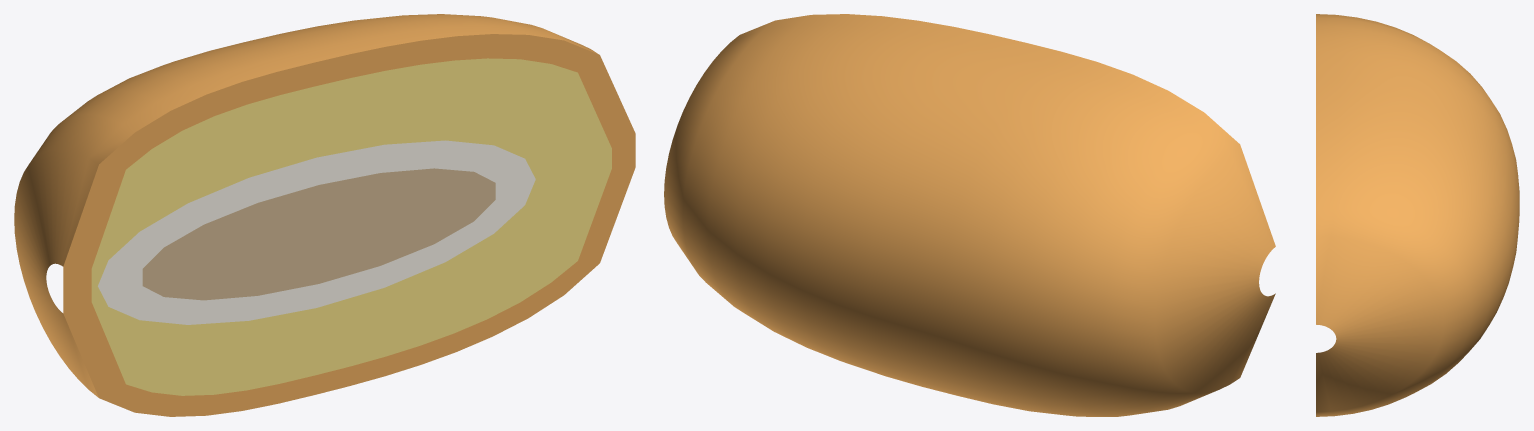
Rendered from fresh-produce-and-groceries-mango-half-394c94ad__24336.glb.
The picture shows the model from 3 angles, left to right: view 1: azimuth 30°, elevation 25°; view 2: azimuth 150°, elevation 25°; view 3: azimuth 270°, elevation 25°; orthographic projection. The views are drawn at different scales.
Parts seen in each view (by area): view 1: mango-half; view 2: mango-half; view 3: mango-half.
Part boxes in pixels (left/top/right/bottom): mango-half: left=14, top=14, right=635, bottom=416; mango-half: left=664, top=14, right=1275, bottom=416; mango-half: left=1316, top=14, right=1519, bottom=416.
Size of the model in its own units: 0.115 by 0.0638 by 0.0444.
